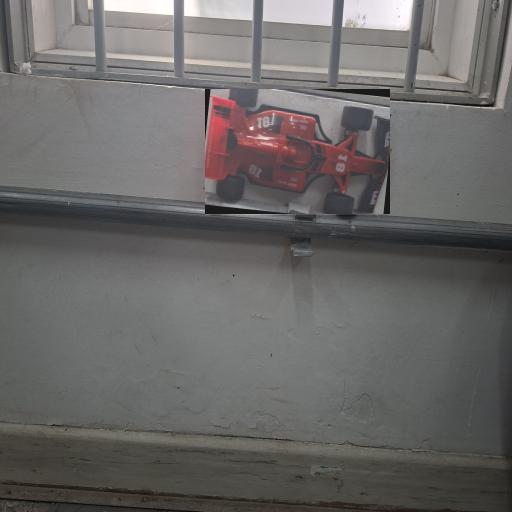carro: (205, 90, 389, 215)
